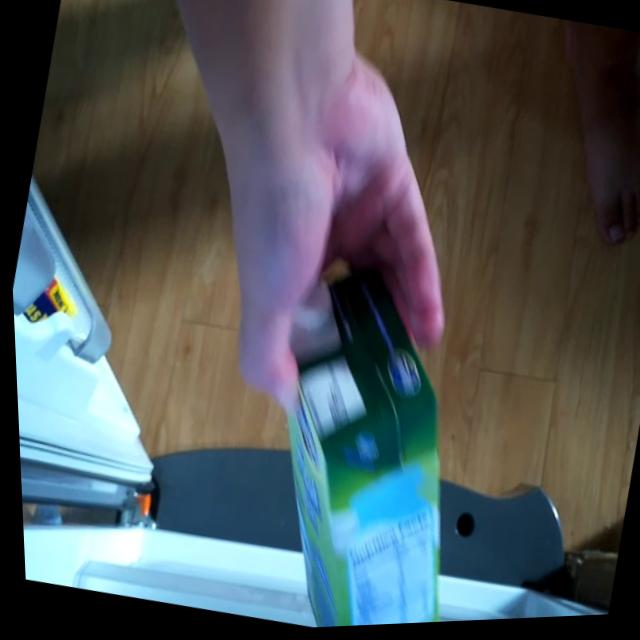milk: (232, 245, 519, 632)
